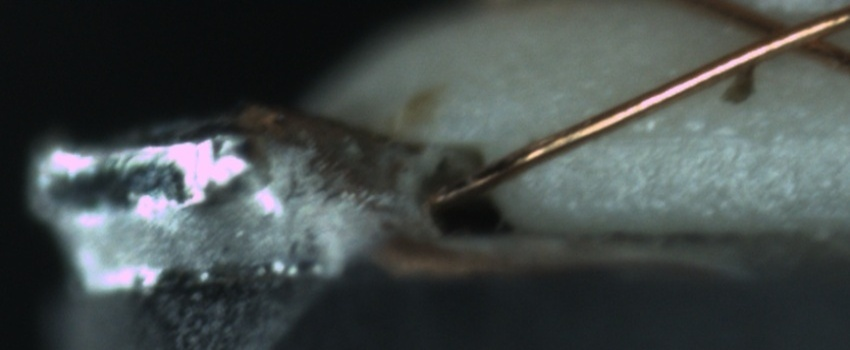CL: (726, 3, 849, 64)
DL: (579, 105, 840, 167)
